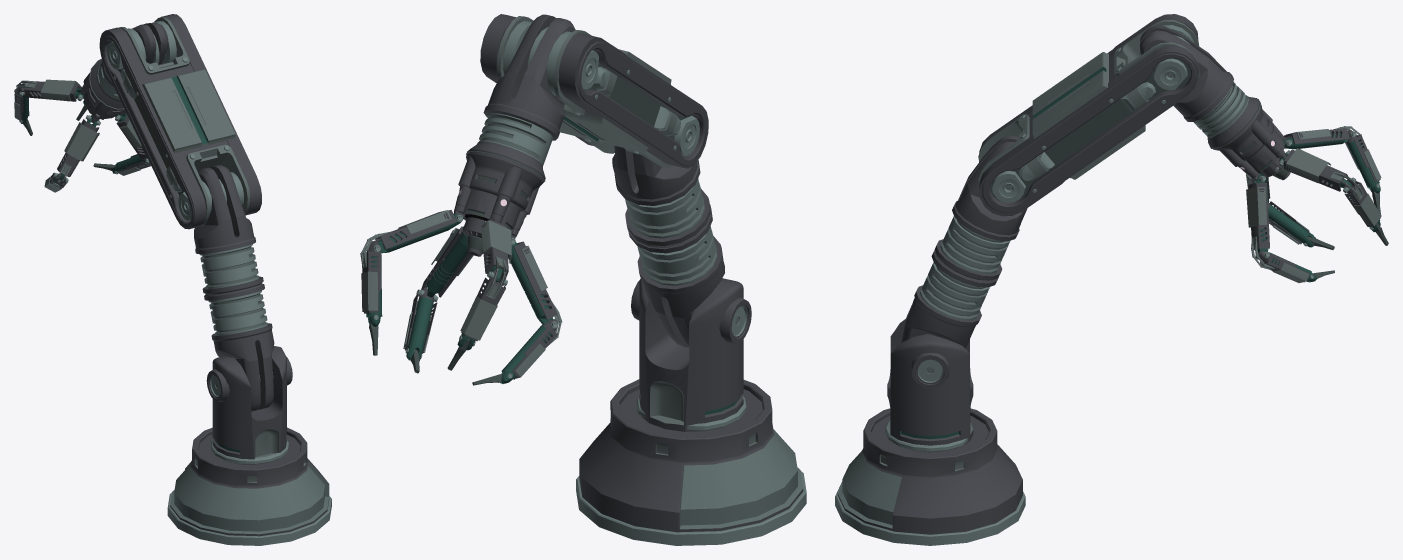
File: manip.fbx
3 views of the same model, side by side, from view 1: azimuth 30°, elevation 25°; view 2: azimuth 150°, elevation 25°; view 3: azimuth 270°, elevation 25° (orthographic). The views are drawn at different scales.
Visible parts, largest first — view 1: Cube.003, Cylinder, Cylinder.004, Cylinder.006, Cylinder.001, Cylinder.014, Cylinder.013, Cylinder.018, Cylinder.005; view 2: Cylinder, Cube.003, Cylinder.014, Cylinder.004, Cylinder.006, Cylinder.001, Cylinder.018, Cylinder.013, Cylinder.005; view 3: Cube.003, Cylinder, Cylinder.004, Cylinder.006, Cylinder.014, Cylinder.001, Cylinder.018, Cylinder.013.
Boxes of the visible parts, x1,y1,x2,y2 form: Cube.003: (99, 14, 261, 229); Cylinder: (170, 427, 329, 536); Cylinder.004: (194, 165, 274, 411); Cylinder.006: (206, 346, 292, 464); Cylinder.001: (19, 79, 147, 182); Cylinder.014: (80, 22, 168, 122); Cylinder.013: (167, 492, 331, 545); Cylinder.018: (14, 81, 151, 192); Cylinder.005: (210, 440, 288, 464); Cylinder: (579, 379, 803, 532); Cube.003: (480, 14, 708, 168); Cylinder.014: (453, 14, 575, 256); Cylinder.004: (612, 145, 724, 347); Cylinder.006: (631, 278, 751, 431); Cylinder.001: (367, 210, 562, 324); Cylinder.018: (360, 239, 561, 383); Cylinder.013: (576, 471, 806, 545); Cylinder.005: (636, 396, 746, 430); Cube.003: (978, 14, 1199, 216); Cylinder: (837, 408, 1022, 534); Cylinder.004: (900, 135, 1027, 348); Cylinder.006: (887, 319, 973, 452); Cylinder.014: (1140, 25, 1290, 181); Cylinder.001: (1246, 126, 1356, 257); Cylinder.018: (1253, 128, 1381, 282); Cylinder.013: (835, 481, 1025, 545).
Size of the model in its own units: 349 by 962 by 1014.
